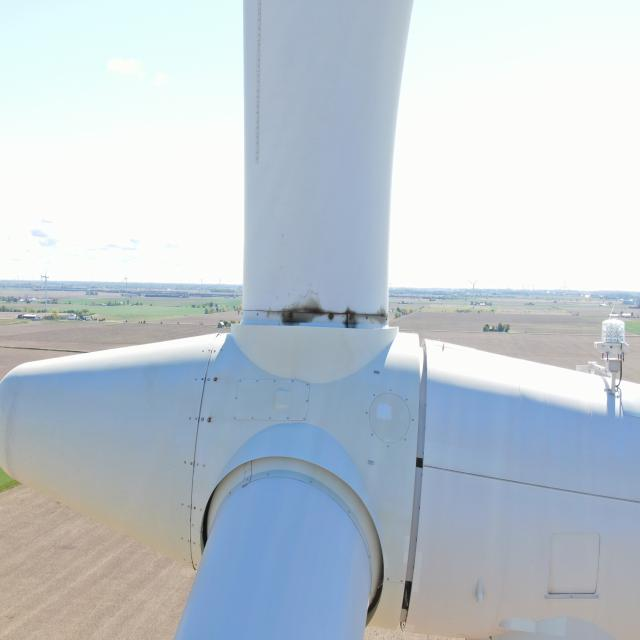damage: (276, 274, 332, 338), (340, 290, 391, 337)
